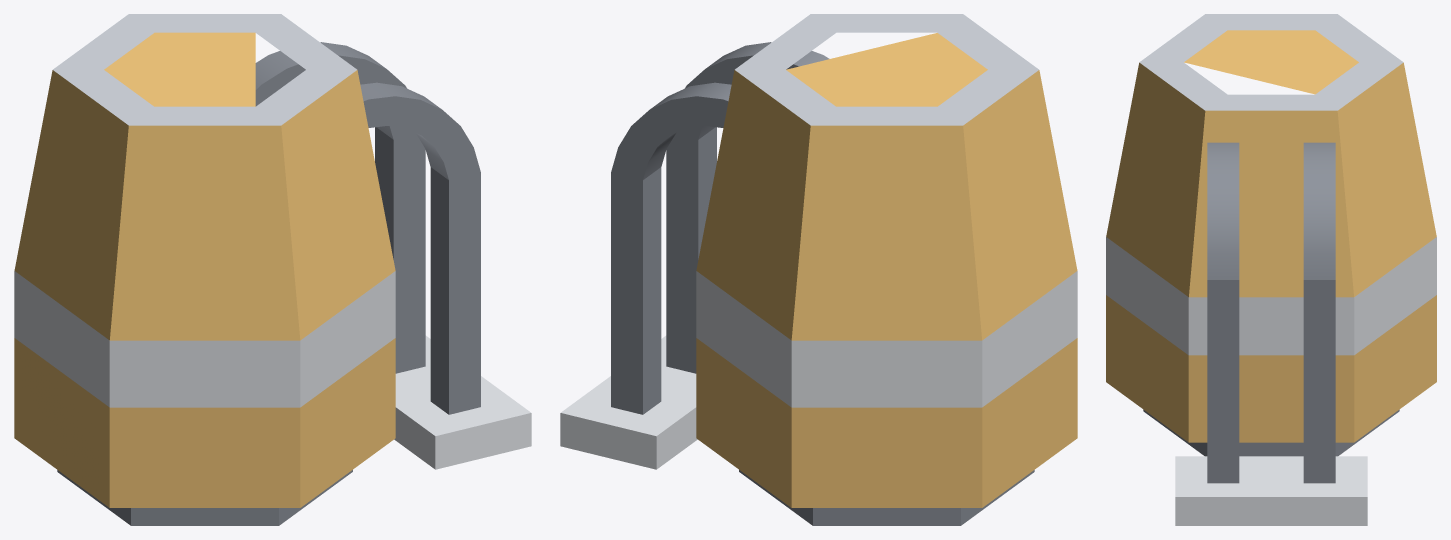
The model's file is machine_barrel.glb.
3 views of the same model, side by side, from view 1: azimuth 30°, elevation 25°; view 2: azimuth 150°, elevation 25°; view 3: azimuth 270°, elevation 25° (orthographic). The views are drawn at different scales.
Parts seen in each view (by area): view 1: machine_barrel; view 2: machine_barrel; view 3: machine_barrel.
Boxes of the visible parts, bbox=[...] form: machine_barrel: bbox=[14, 14, 531, 525]; machine_barrel: bbox=[560, 14, 1077, 525]; machine_barrel: bbox=[1106, 14, 1436, 525].
Bounding box in the file's own units: 0.6464 × 0.6 × 0.5155.
